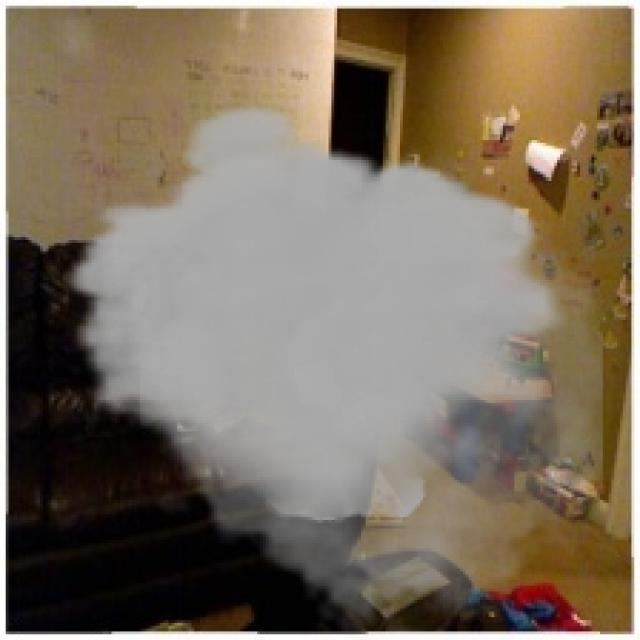smoke: (63, 100, 603, 637)
